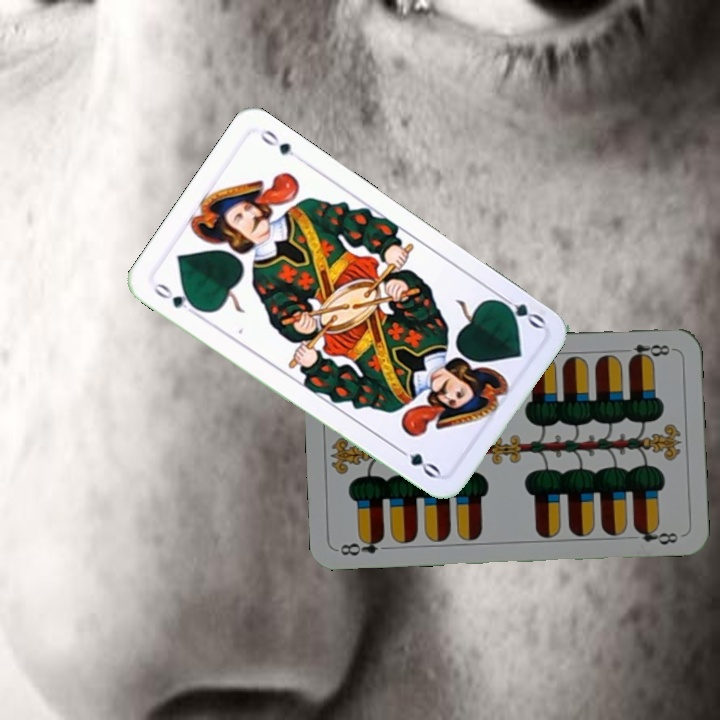E8: (336, 532, 387, 559), (625, 340, 676, 363)
GO: (491, 290, 548, 332), (149, 279, 203, 319)
